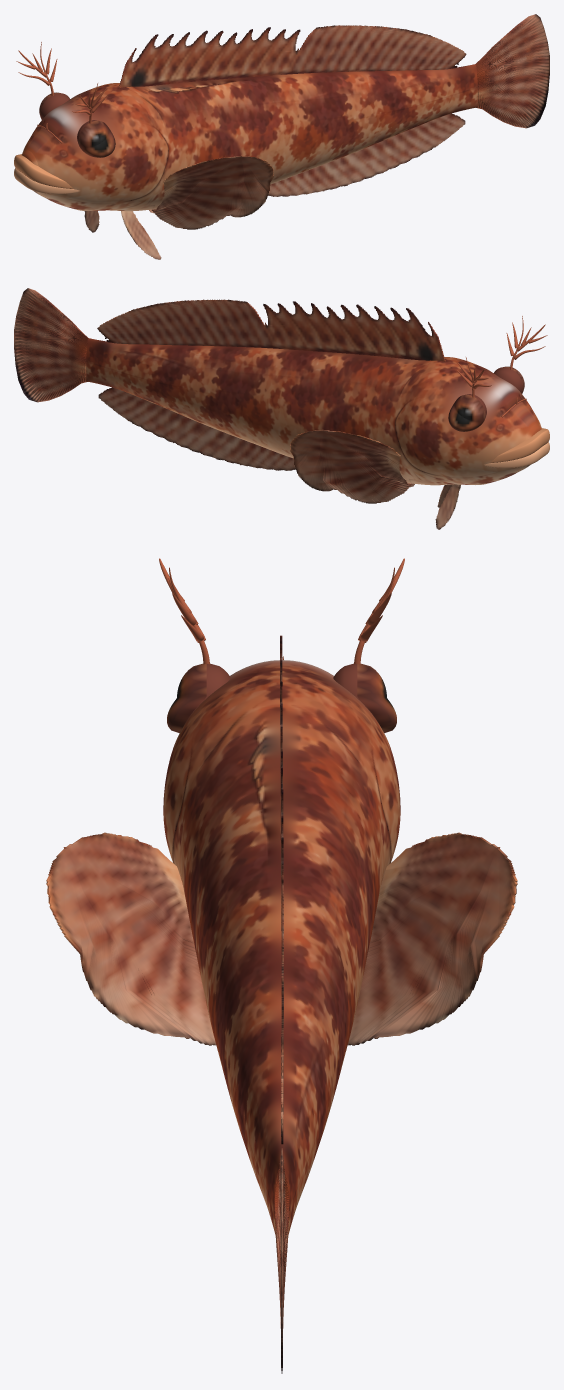
File: isoginpo.glb
3 views of the same model, one above another, from view 1: azimuth 30°, elevation 25°; view 2: azimuth 150°, elevation 25°; view 3: azimuth 270°, elevation 25° (orthographic). The views are drawn at different scales.
Visible parts, largest first — view 1: Body_mottled_skin, Dorsal_fin_notched, Pectoral_port, Rounded_caudal_fin, Anal_fin_long, Eye_port, Closed_mouth_upper, Pelvic_port, Closed_mouth_lower, Supraorbital_cirrus_starboard, Eye_starboard, Supraorbital_cirrus_port; view 2: Body_mottled_skin, Dorsal_fin_notched, Pectoral_starboard, Rounded_caudal_fin, Anal_fin_long, Eye_starboard, Closed_mouth_upper, Pelvic_starboard, Closed_mouth_lower, Supraorbital_cirrus_port, Eye_port, Supraorbital_cirrus_starboard; view 3: Body_mottled_skin, Pectoral_port, Pectoral_starboard, Eye_port, Eye_starboard, Rounded_caudal_fin, Dorsal_fin_notched.
Boxes of the visible parts, x1,y1,x2,y2 form: Body_mottled_skin: (22,64,477,211); Dorsal_fin_notched: (119,25,466,87); Pectoral_port: (151,155,273,229); Rounded_caudal_fin: (476,14,549,128); Anal_fin_long: (267,113,465,196); Eye_port: (77,120,115,157); Closed_mouth_upper: (14,154,73,188); Pelvic_port: (121,211,161,259); Closed_mouth_lower: (14,168,79,193); Supraorbital_cirrus_starboard: (16,42,57,95); Eye_starboard: (39,92,69,119); Supraorbital_cirrus_port: (72,83,107,123); Body_mottled_skin: (86,338,541,485); Dorsal_fin_notched: (97,299,445,361); Pectoral_starboard: (290,429,412,503); Rounded_caudal_fin: (14,288,87,402); Anal_fin_long: (98,387,296,470); Eye_starboard: (448,394,486,431); Closed_mouth_upper: (490,428,549,462); Pelvic_starboard: (435,484,459,529); Closed_mouth_lower: (484,442,549,467); Supraorbital_cirrus_port: (506,316,547,369); Eye_port: (494,366,524,393); Supraorbital_cirrus_starboard: (456,357,491,397); Body_mottled_skin: (163,660,400,1234); Pectoral_port: (46,832,216,1045); Pectoral_starboard: (347,832,517,1045); Eye_port: (167,663,230,732); Eye_starboard: (333,663,396,732); Rounded_caudal_fin: (274,1148,289,1373); Dorsal_fin_notched: (280,635,283,1144).
Size of the model in its own units: 0.0811 by 0.0304 by 0.0312.
Materials: 1 (1 with a texture image).
